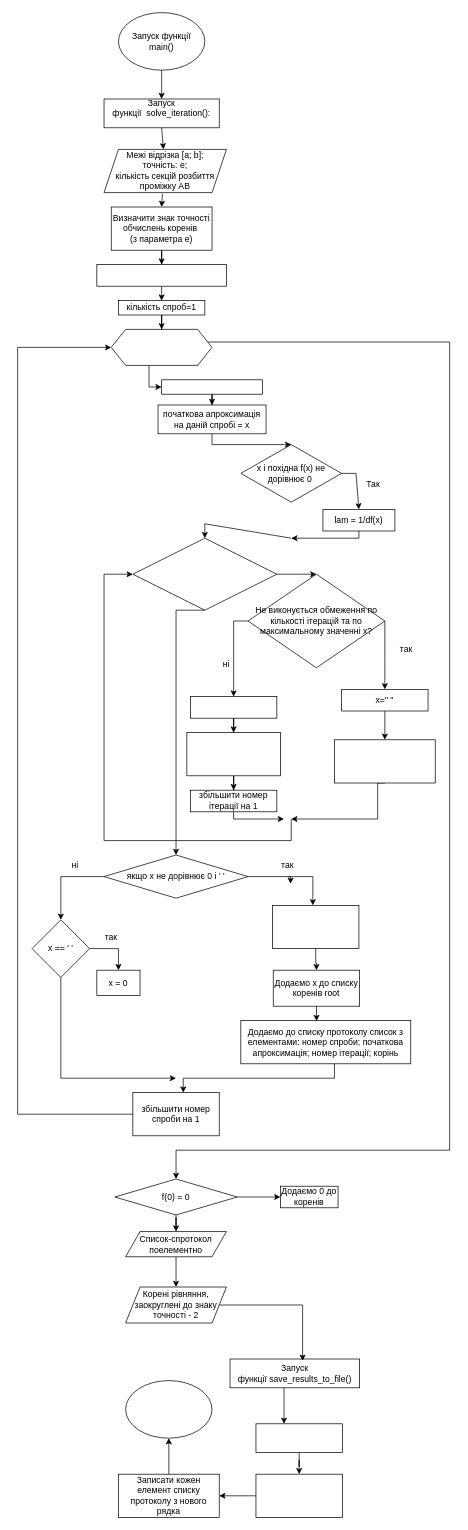
The diagram is 468 pixels wide and 1530 high, and some of its shapes have lost their labels. The shapes that lost their labels are listed below. From the top down, each one's centre as x and y in pixels, then its label:
At (161,275): "Створюю порожні список коренів і список-протокол".
At (161,347): "і; кількість секцій+1".
At (211,386): "x = a + i* (b-a)/section".
At (204,573): "модуль від х - (минуле значення х)>е".
At (233,707): "Запам'ятовуємо минуле значення х".
At (233,754): "Обчислюємо нове значення х: x = phi(x, lam)".
At (384,761): "Перервати поточний цикл, перейти до наступного значення і".
At (315,927): "Заокруглюємо х до кількості знаків точності -2".
At (168,1409): "Кінець".
At (298,1438): "Відкрити файл 'results.txt'".
At (298,1495): "Записати на файл множину коренів рівняння".
